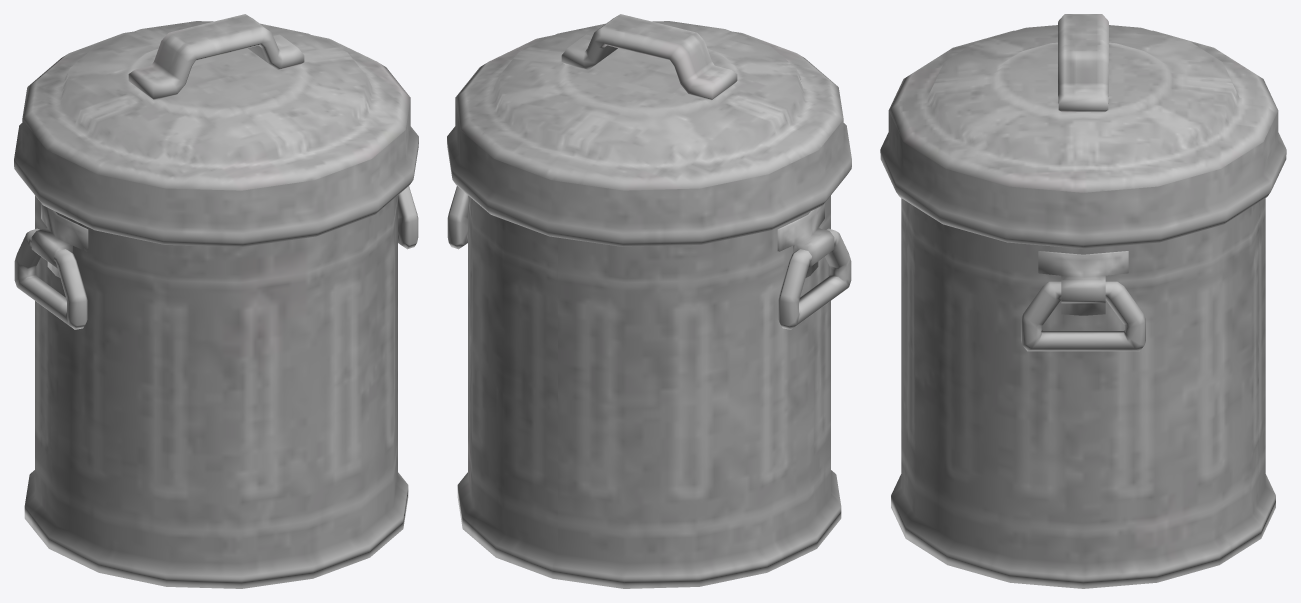
3 renders of one model, left to right at view 1: azimuth 30°, elevation 25°; view 2: azimuth 150°, elevation 25°; view 3: azimuth 270°, elevation 25°, orthographic.
Bounding box in the file's own units: 7.5 × 9.69 × 7.5.
1 material, 1 textured.
